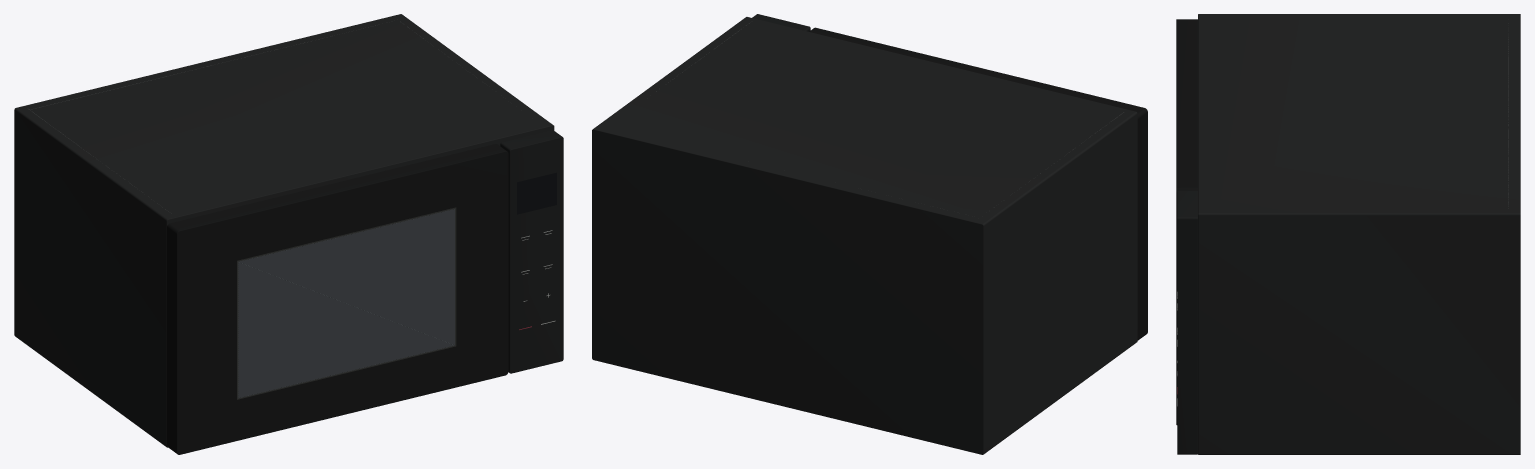
The picture shows the model from 3 angles, left to right: view 1: azimuth 30°, elevation 25°; view 2: azimuth 150°, elevation 25°; view 3: azimuth 270°, elevation 25°; orthographic projection. The views are drawn at different scales.
Parts seen in each view (by area): view 1: BodyShell, DoorBody, WindowMesh, ControlPanel, WindowRim, ControlDisplay; view 2: BodyShell, DoorBody; view 3: BodyShell, ControlPanel, DoorBody.
Boxes of the visible parts, box(x1,y1,x2,y2) form: BodyShell: box(14, 14, 554, 447); DoorBody: box(167, 144, 508, 454); WindowMesh: box(238, 209, 454, 398); ControlPanel: box(500, 130, 563, 373); WindowRim: box(237, 207, 456, 399); ControlDisplay: box(517, 172, 556, 214); BodyShell: box(592, 17, 1137, 454); DoorBody: box(809, 27, 1147, 340); BodyShell: box(1198, 14, 1520, 454); ControlPanel: box(1177, 190, 1197, 454); DoorBody: box(1176, 19, 1197, 424).
Size of the model in its own units: 0.476 by 0.272 by 0.346.
Materials: 11 (1 with a texture image).
